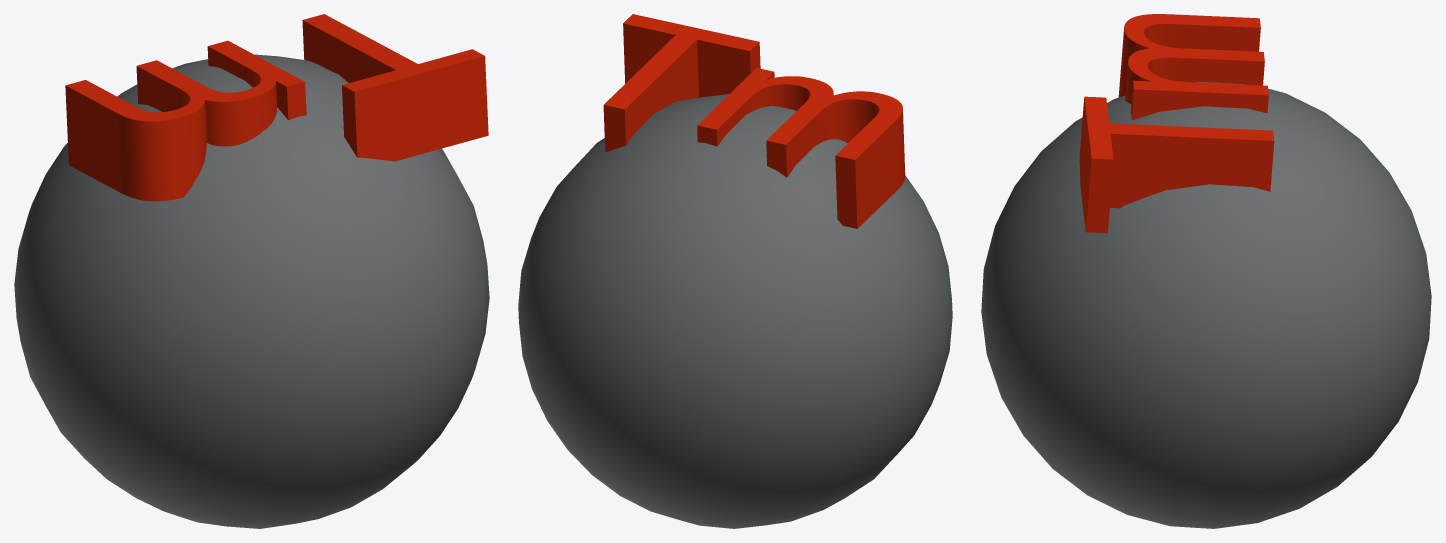
3 renders of one model, left to right at view 1: azimuth 30°, elevation 25°; view 2: azimuth 150°, elevation 25°; view 3: azimuth 270°, elevation 25°, orthographic. The views are drawn at different scales.
Parts seen in each view (by area): view 1: Tm; view 2: Tm; view 3: Tm.
Boxes of the visible parts, left/top/right/bottom form: Tm: left=14, top=14, right=489, bottom=528; Tm: left=518, top=14, right=952, bottom=528; Tm: left=981, top=14, right=1431, bottom=528.
Size of the model in its own units: 38.69 by 40.74 by 38.7.
